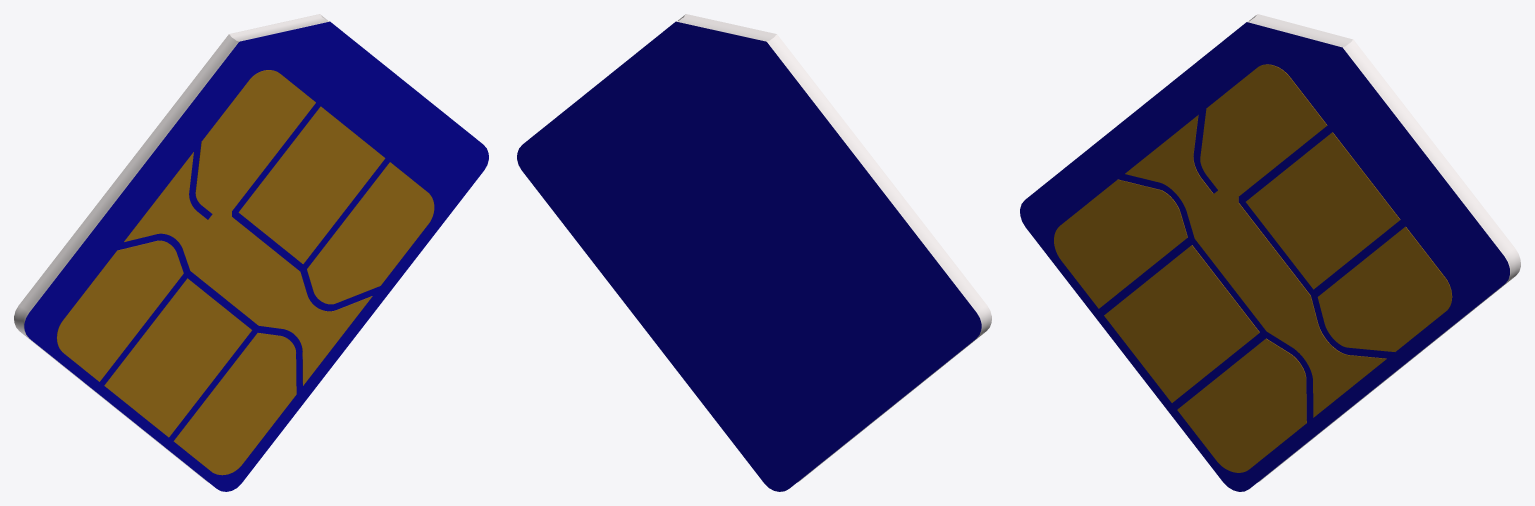
Rendered from simcard.gltf.
3 renders of one model, left to right at view 1: azimuth 30°, elevation 25°; view 2: azimuth 150°, elevation 25°; view 3: azimuth 330°, elevation 25°, orthographic. The views are drawn at different scales.
Visible parts, largest first — view 1: contacte-material, sim-material, rama-material; view 2: sim-material, rama-material; view 3: contacte-material, sim-material, rama-material.
Boxes of the visible parts, x1,y1,x2,y2 form: contacte-material: (56,70,434,475); sim-material: (24,21,488,491); rama-material: (14,14,329,482); sim-material: (517,21,981,491); rama-material: (676,14,991,482); contacte-material: (1054,64,1452,472); sim-material: (1020,22,1509,491); rama-material: (1247,14,1520,482).
Bounding box in the file's own units: 1.51 × 1.39 × 0.06.
